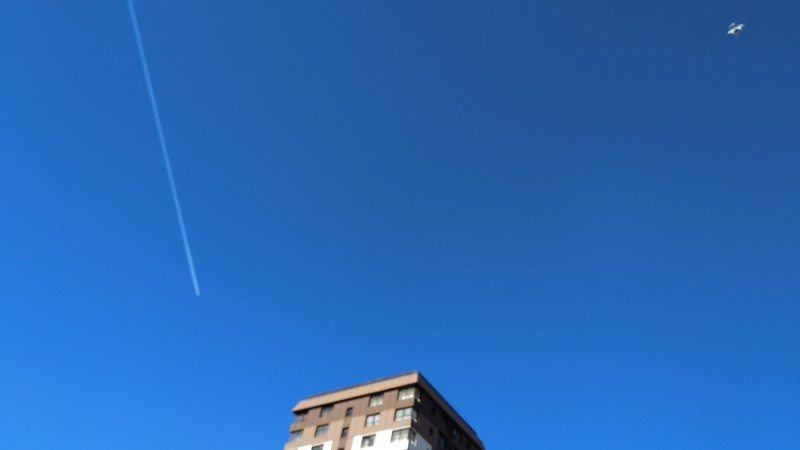drone: (725, 19, 746, 37)
